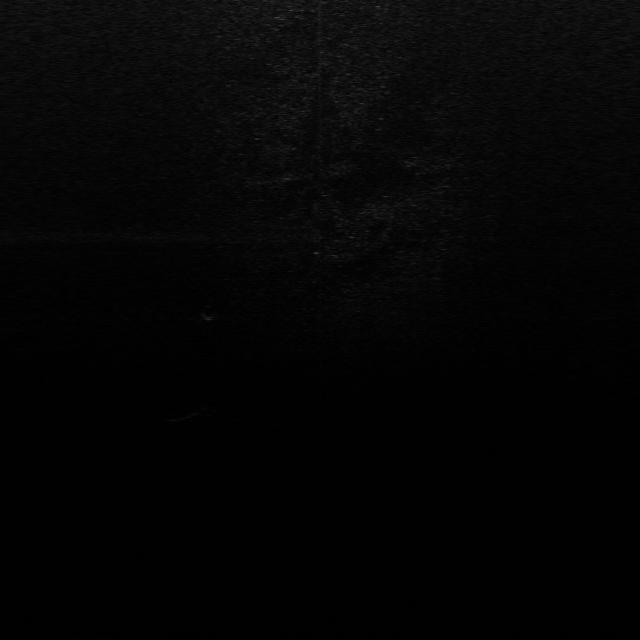ball: (193, 394, 221, 419)
circle cage: (197, 302, 223, 322)
